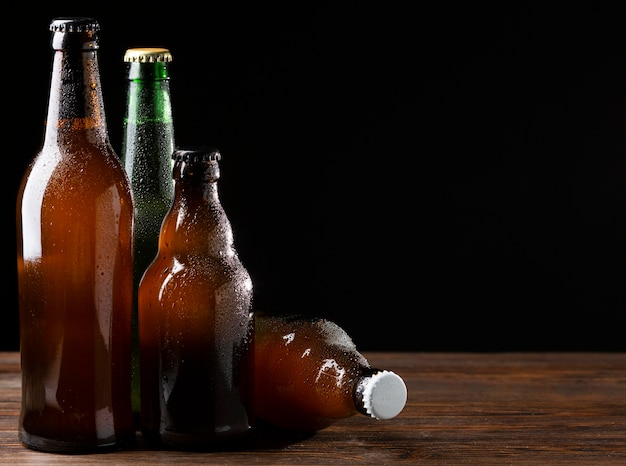alcohol: (18, 20, 135, 455), (138, 150, 259, 451), (257, 316, 407, 446), (114, 46, 189, 285)
